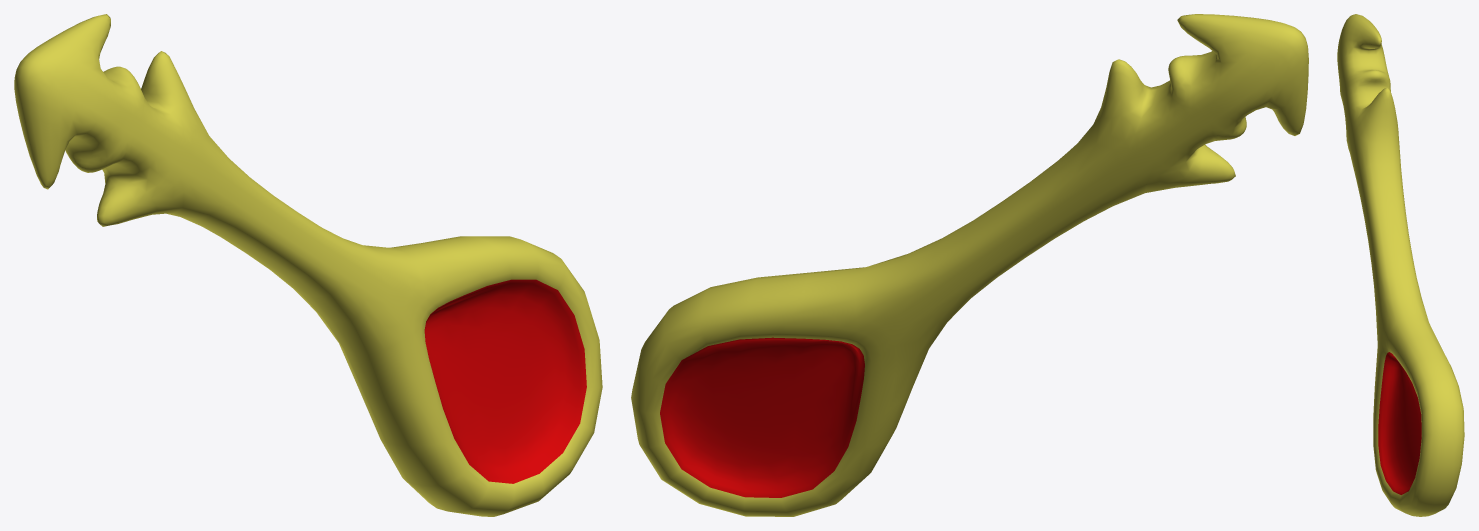
The model's file is Key.fbx.
3 renders of one model, left to right at view 1: azimuth 30°, elevation 25°; view 2: azimuth 150°, elevation 25°; view 3: azimuth 270°, elevation 25°, orthographic. The views are drawn at different scales.
Visible parts, largest first — view 1: Cylinder; view 2: Cylinder; view 3: Cylinder.
Boxes of the visible parts, bbox=[...] form: Cylinder: bbox=[14, 14, 602, 516]; Cylinder: bbox=[631, 14, 1308, 516]; Cylinder: bbox=[1337, 14, 1464, 516].
Size of the model in its own units: 371 by 339 by 111.
